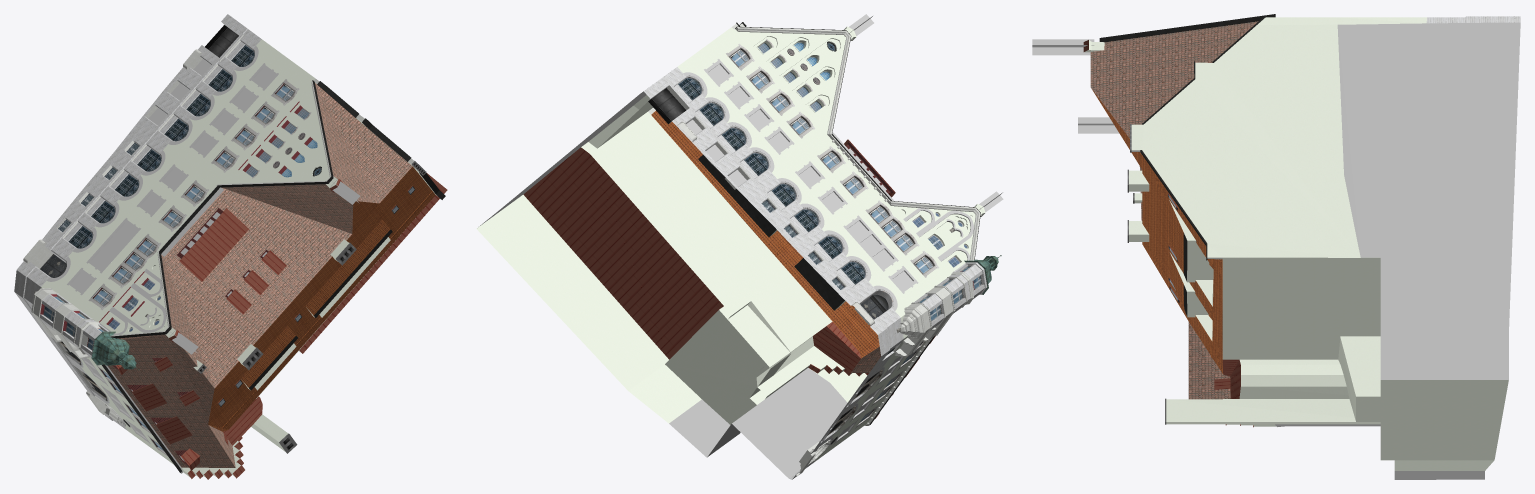
Rendered from Suur-Karja_1.obj.
The picture shows the model from 3 angles, left to right: view 1: azimuth 30°, elevation 25°; view 2: azimuth 150°, elevation 25°; view 3: azimuth 270°, elevation 25°; orthographic projection. The views are drawn at different scales.
Visible parts, largest first — view 1: Suur_Karja_1; view 2: Suur_Karja_1; view 3: Suur_Karja_1.
Boxes of the visible parts, x1,y1,x2,y2 form: Suur_Karja_1: (14,14,447,479); Suur_Karja_1: (476,14,1003,479); Suur_Karja_1: (1032,14,1520,479).
Bounding box in the file's own units: 44.14 × 37.52 × 33.08.
